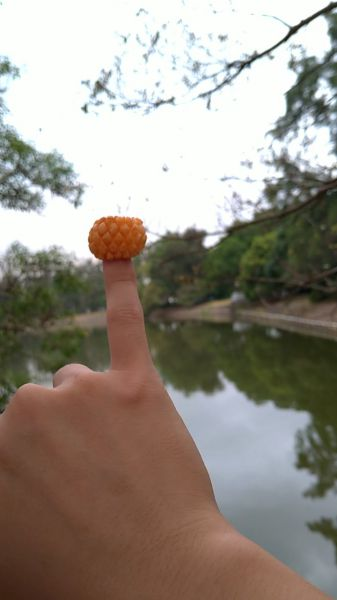eggs: (89, 216, 145, 261)
